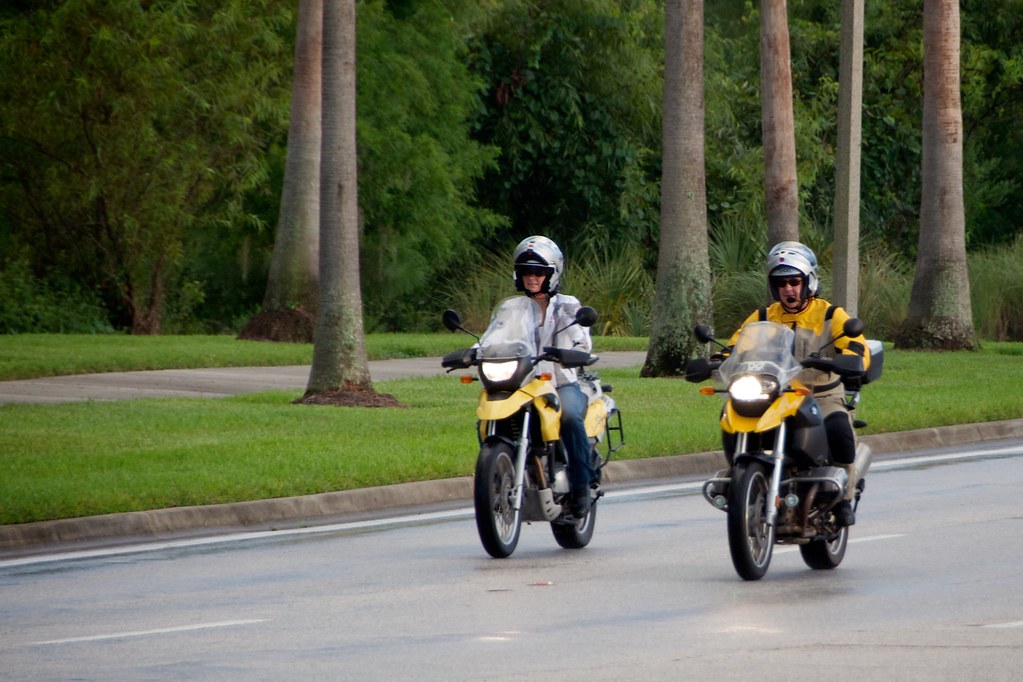helmet: (509, 234, 569, 291), (764, 244, 817, 296)
